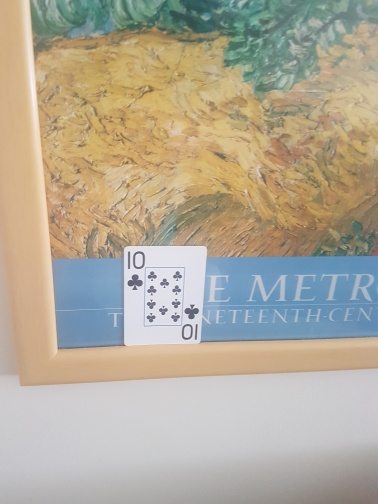ten: (123, 246, 205, 344)
